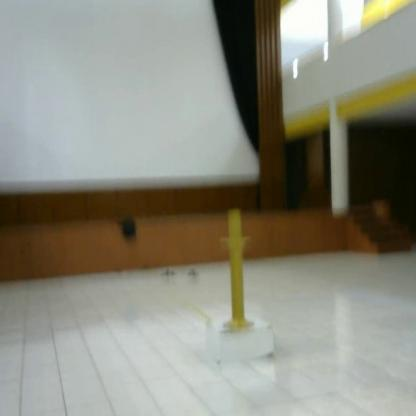pole: (217, 208, 259, 337)
